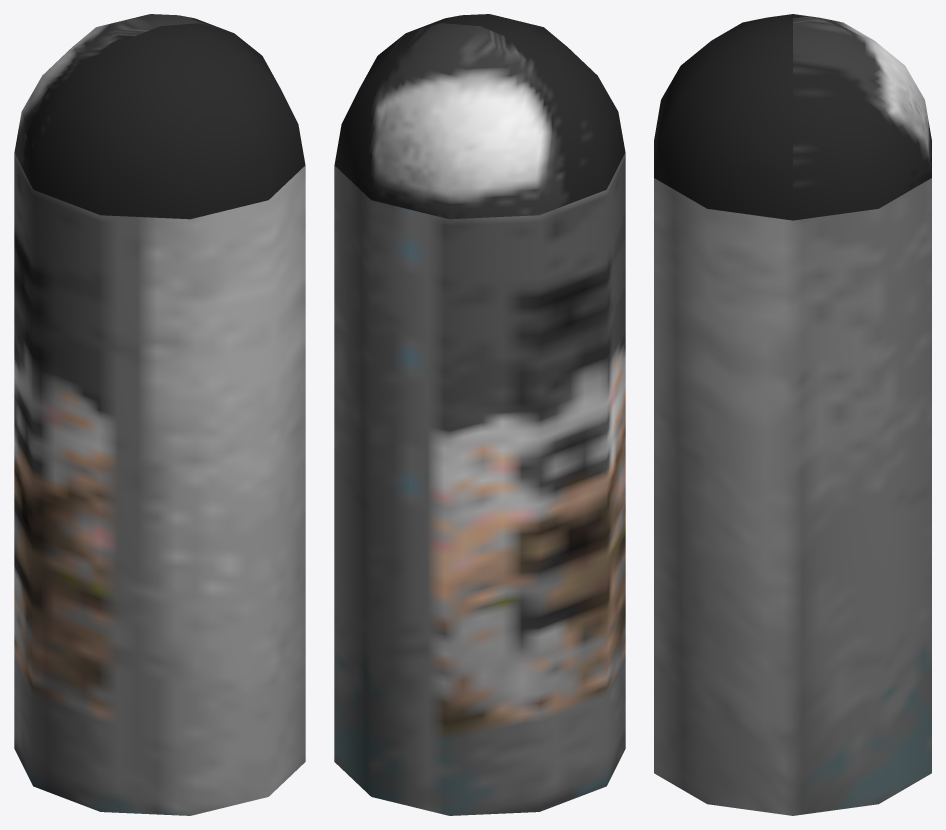
Rendered from rec_bin.FBX.
3 renders of one model, left to right at view 1: azimuth 30°, elevation 25°; view 2: azimuth 150°, elevation 25°; view 3: azimuth 270°, elevation 25°, orthographic.
Visible parts, largest first — view 1: rec_bin; view 2: rec_bin; view 3: rec_bin.
Part boxes in pixels (x1,y1,x2,y2): rec_bin: [14, 14, 305, 815]; rec_bin: [334, 14, 625, 815]; rec_bin: [654, 14, 931, 815].
Size of the model in its own units: 40 by 38.04 by 110.
1 material, 1 textured.
